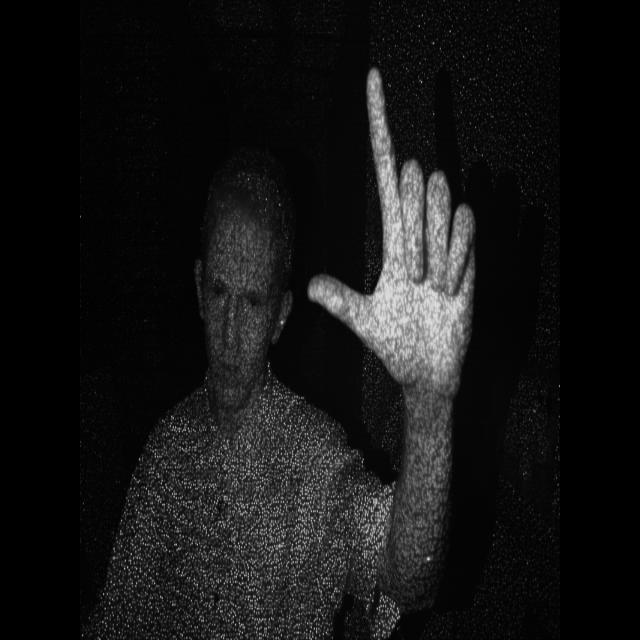L: (302, 60, 492, 394)
